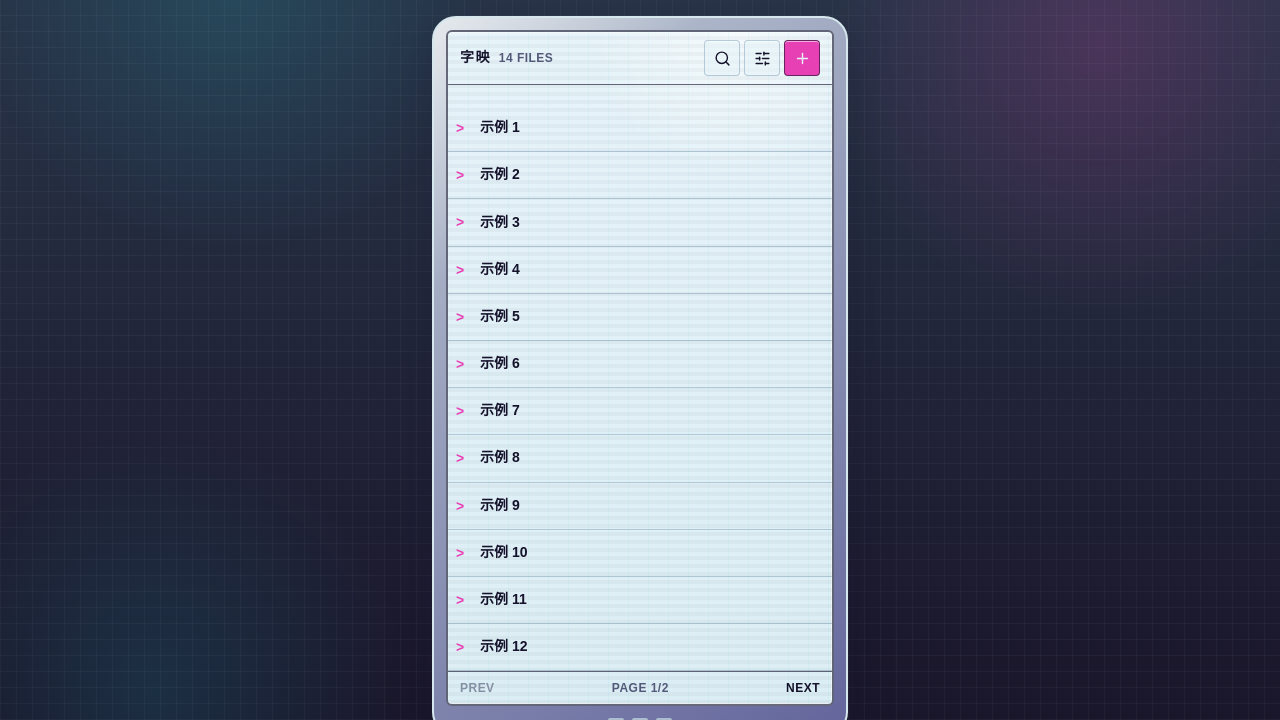
LibraryView › paginates library items
Expected: the text "PAGE 1/2" is shown, [612, 681, 669, 695]
Click the button "NEXT" at (803,688), box [786, 672, 820, 704]
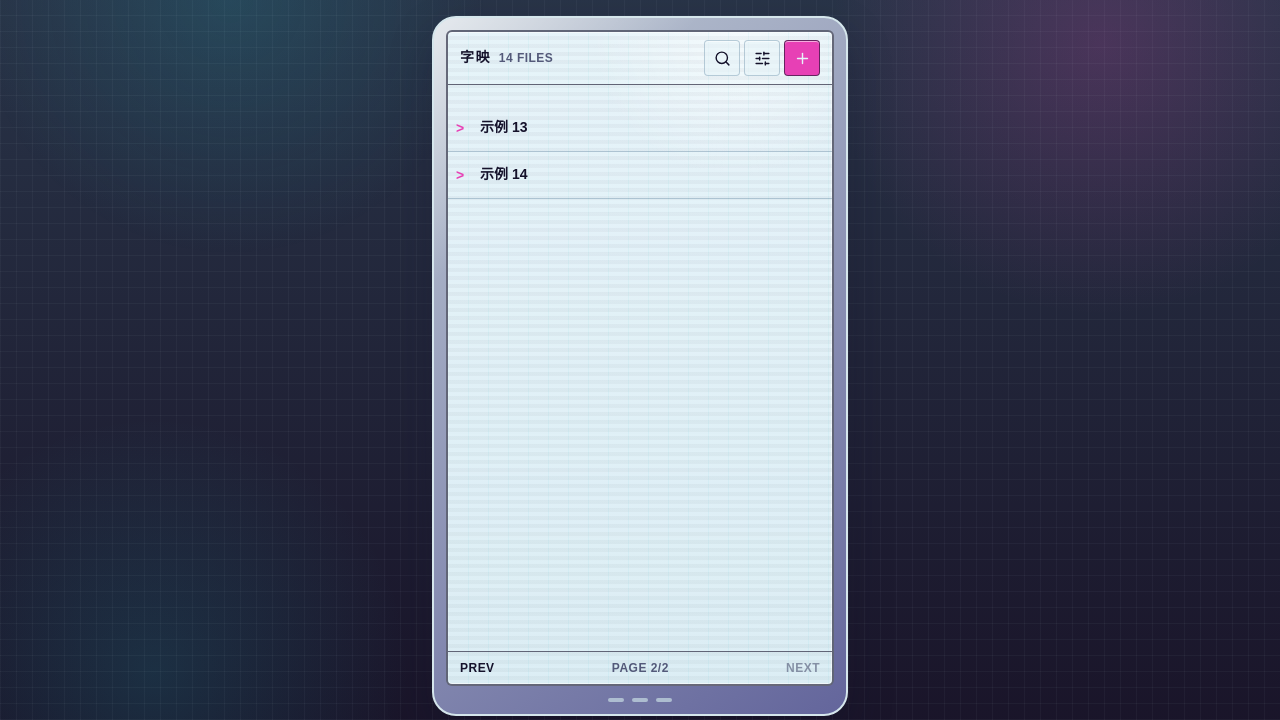
Now the text "PAGE 2/2" is shown, box [612, 661, 669, 675]
